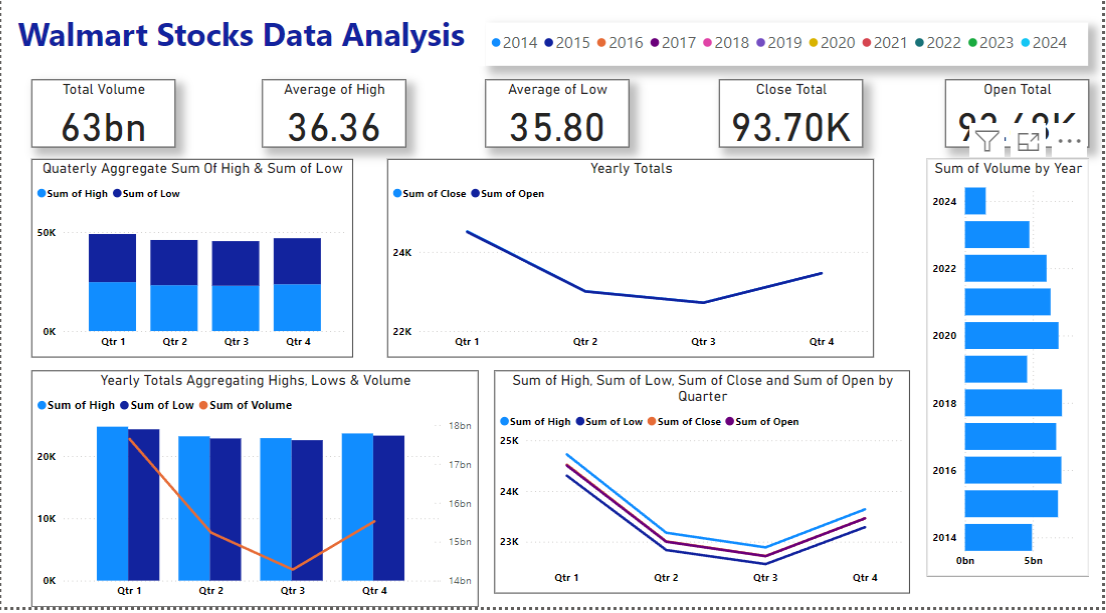

The dashboard page shown, as its layout file describes it:
{"tool":"powerbi","page":{"name":"Stock Analysis","canvas":[1280,720],"ordinal":0},"visuals":[{"type":"treemap","fields":{"Group":["WMT.Date.Variation.Date Hierarchy.Year"]},"box":[563.1,36.6,701.5,50.9],"z":0},{"type":"card","title":"Average of High","fields":{"Values":["Avg(WMT.High)"]},"box":[303.8,103.4,167,79.5],"z":1000},{"type":"card","title":"Average of Low","fields":{"Values":["Avg(WMT.Low)"]},"box":[563.1,103.4,167,79.5],"z":2000},{"type":"card","title":"Close Total","fields":{"Values":["Sum(WMT.Close)"]},"box":[835.1,103.4,167,79.5],"z":3000},{"type":"card","title":"Open Total","fields":{"Values":["Sum(WMT.Open)"]},"box":[1097.5,103.4,167,79.5],"z":4000},{"type":"card","title":"Total Volume","fields":{"Values":["Sum(WMT.Volume)"]},"box":[35,103.4,167,79.5],"z":5000},{"type":"columnChart","title":"Quaterly Aggregate Sum Of High & Sum of Low ","fields":{"Y":["Sum(WMT.High)","Sum(WMT.Low)"],"Category":["WMT.Date.Variation.Date Hierarchy.Quarter"]},"box":[35,195.6,373.8,232.2],"z":6000},{"type":"lineClusteredColumnComboChart","title":"Yearly Totals Aggregating Highs, Lows & Volume","fields":{"Y":["Sum(WMT.High)","Sum(WMT.Low)"],"Category":["WMT.Date.Variation.Date Hierarchy.Quarter"],"Y2":["Sum(WMT.Volume)"]},"box":[35,443.8,520.1,276.8],"z":7000},{"type":"lineChart","title":"Yearly Totals ","fields":{"Y":["Sum(WMT.Close)","Sum(WMT.Open)"],"Category":["WMT.Date.Variation.Date Hierarchy.Quarter"]},"box":[448.6,195.6,566.3,232.2],"z":8000},{"type":"lineChart","fields":{"Y":["Sum(WMT.High)","Sum(WMT.Low)","Sum(WMT.Close)","Sum(WMT.Open)"],"Category":["WMT.Date.Variation.Date Hierarchy.Quarter"]},"box":[574.2,443.8,483.5,260.9],"z":9000},{"type":"clusteredBarChart","fields":{"Category":["WMT.Date.Variation.Date Hierarchy.Year"],"Y":["Sum(WMT.Volume)"]},"box":[1076.8,195.6,187.7,488.3],"z":10000},{"type":"textbox","box":[14.3,19.1,548.8,68.4],"z":11000}]}

Visuals, with their boxes on the page's 1280x720 design canvas (x1, y1, x2, y2). These are canvas units, not pixel positions in the 1106x613 screenshot, which may show the page scaled, cropped or inside an application window:
treemap - WMT.Date.Variation.Date Hierarchy.Year: detection(563, 37, 1265, 88)
"Average of High" card: detection(304, 103, 471, 183)
"Average of Low" card: detection(563, 103, 730, 183)
"Close Total" card: detection(835, 103, 1002, 183)
"Open Total" card: detection(1098, 103, 1264, 183)
"Total Volume" card: detection(35, 103, 202, 183)
"Quaterly Aggregate Sum Of High & Sum of Low " columnChart: detection(35, 196, 409, 428)
"Yearly Totals Aggregating Highs, Lows & Volume" lineClusteredColumnComboChart: detection(35, 444, 555, 721)
"Yearly Totals " lineChart: detection(449, 196, 1015, 428)
lineChart - Sum(WMT.High) x Sum(WMT.Low): detection(574, 444, 1058, 705)
clusteredBarChart - WMT.Date.Variation.Date Hierarchy.Year x Sum(WMT.Volume): detection(1077, 196, 1264, 684)
textbox: detection(14, 19, 563, 88)
